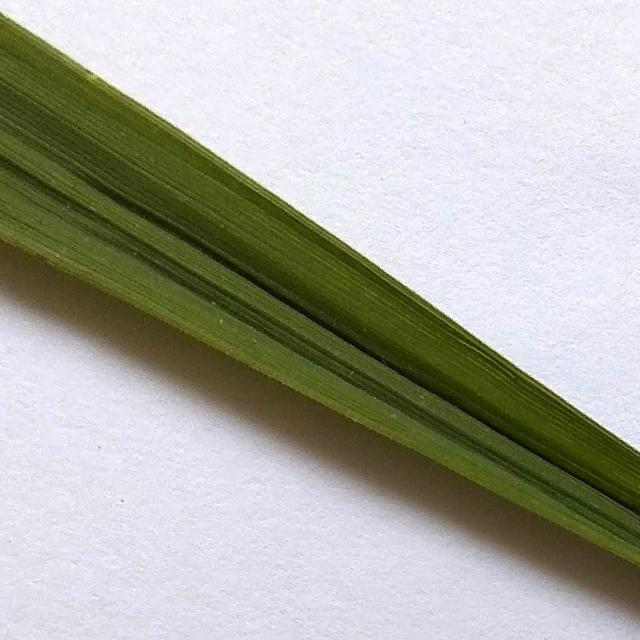healthy: (0, 3, 640, 572)
